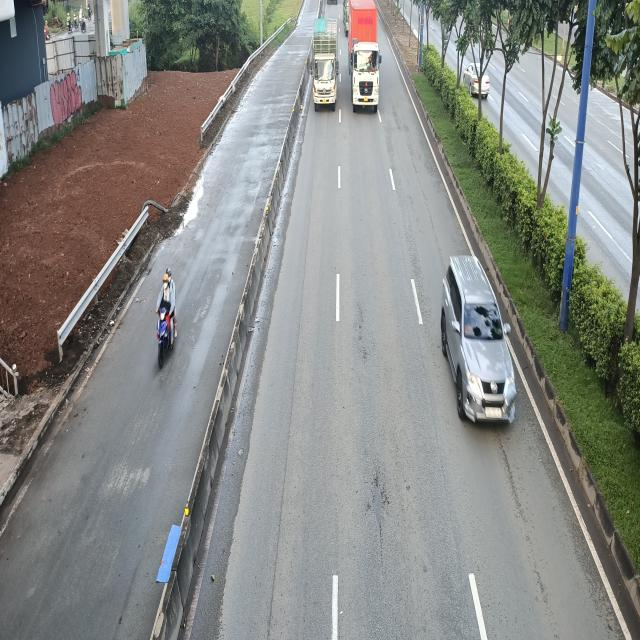car: (442, 255, 516, 427)
container: (347, 0, 381, 112)
truck: (311, 19, 341, 110)
